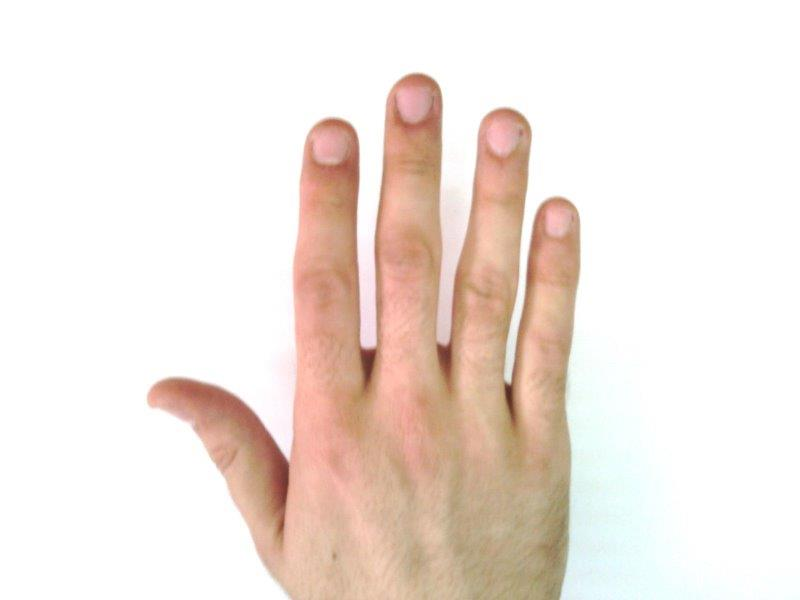hand: (148, 72, 583, 600)
